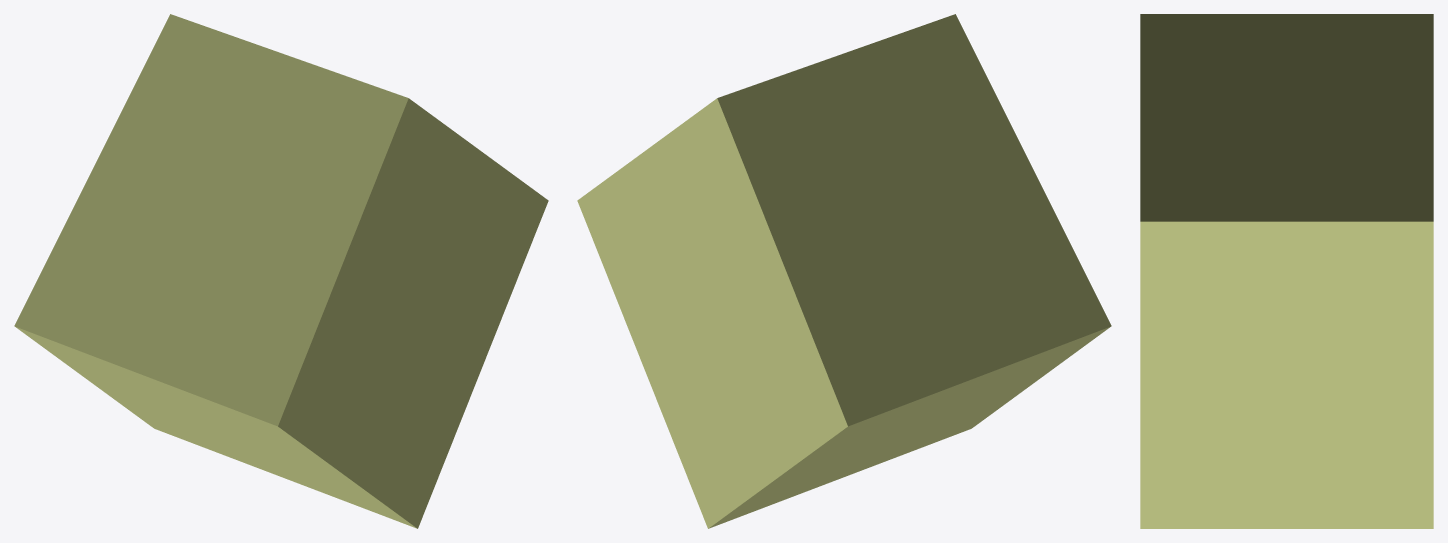
The picture shows the model from 3 angles, left to right: view 1: azimuth 30°, elevation 25°; view 2: azimuth 150°, elevation 25°; view 3: azimuth 270°, elevation 25°; orthographic projection. The views are drawn at different scales.
Visible parts, largest first — view 1: 0_1_0_3_1_1_1_2_2_2_1; view 2: 0_1_0_3_1_1_1_2_2_2_1; view 3: 0_1_0_3_1_1_1_2_2_2_1.
Part boxes in pixels (x1=…): 0_1_0_3_1_1_1_2_2_2_1: x1=14, y1=14, x2=548, y2=528; 0_1_0_3_1_1_1_2_2_2_1: x1=577, y1=14, x2=1111, y2=528; 0_1_0_3_1_1_1_2_2_2_1: x1=1140, y1=14, x2=1433, y2=528.
Size of the model in its own units: 9.76 by 10.37 by 6.
